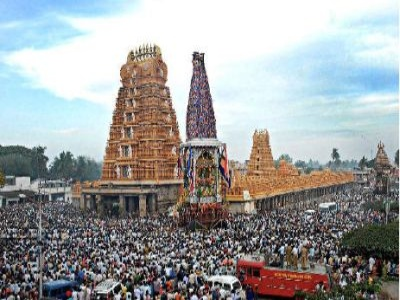gopura: (85, 52, 191, 183), (238, 127, 285, 183)
